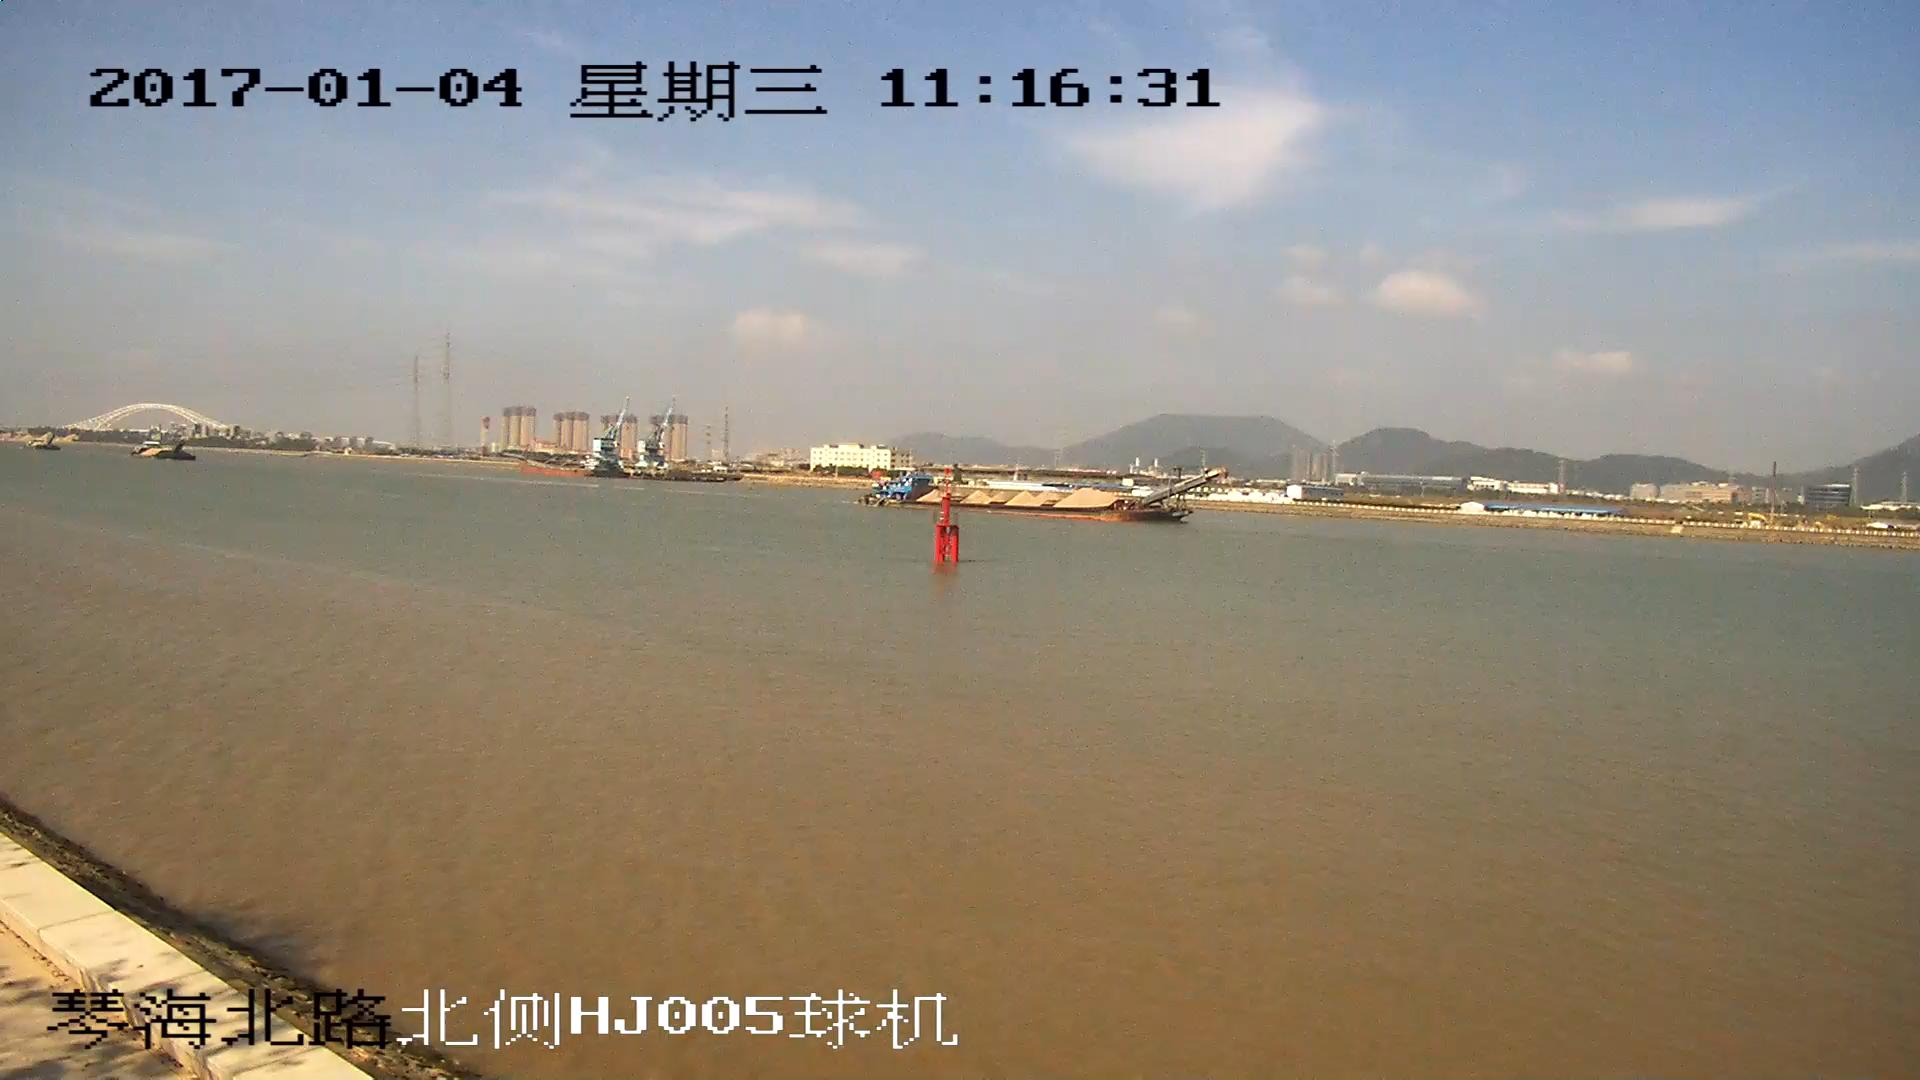ore carrier: (869, 474, 1222, 521)
